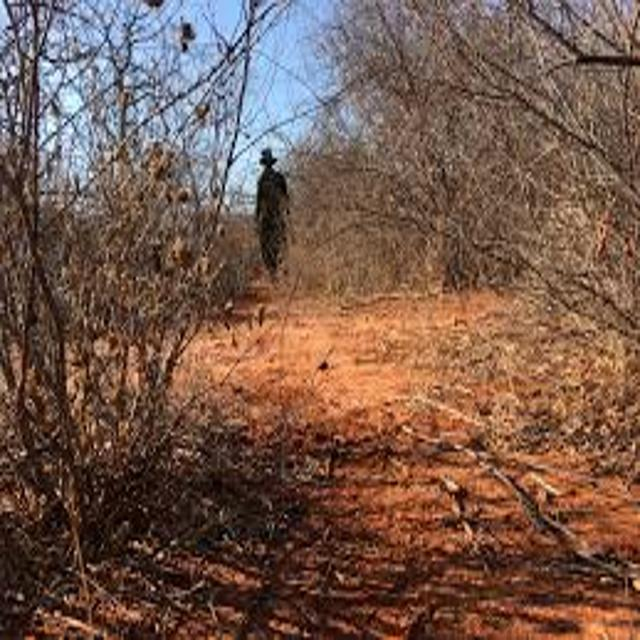poacher: (201, 120, 335, 309)
